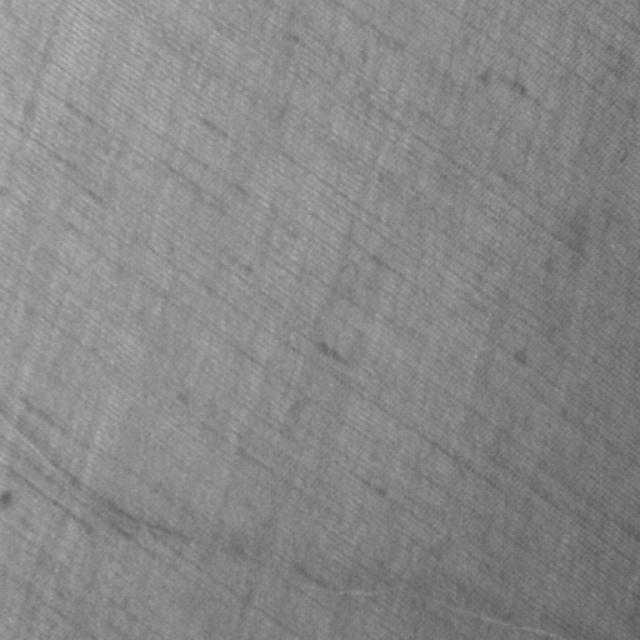objects: (0, 405, 567, 637)
